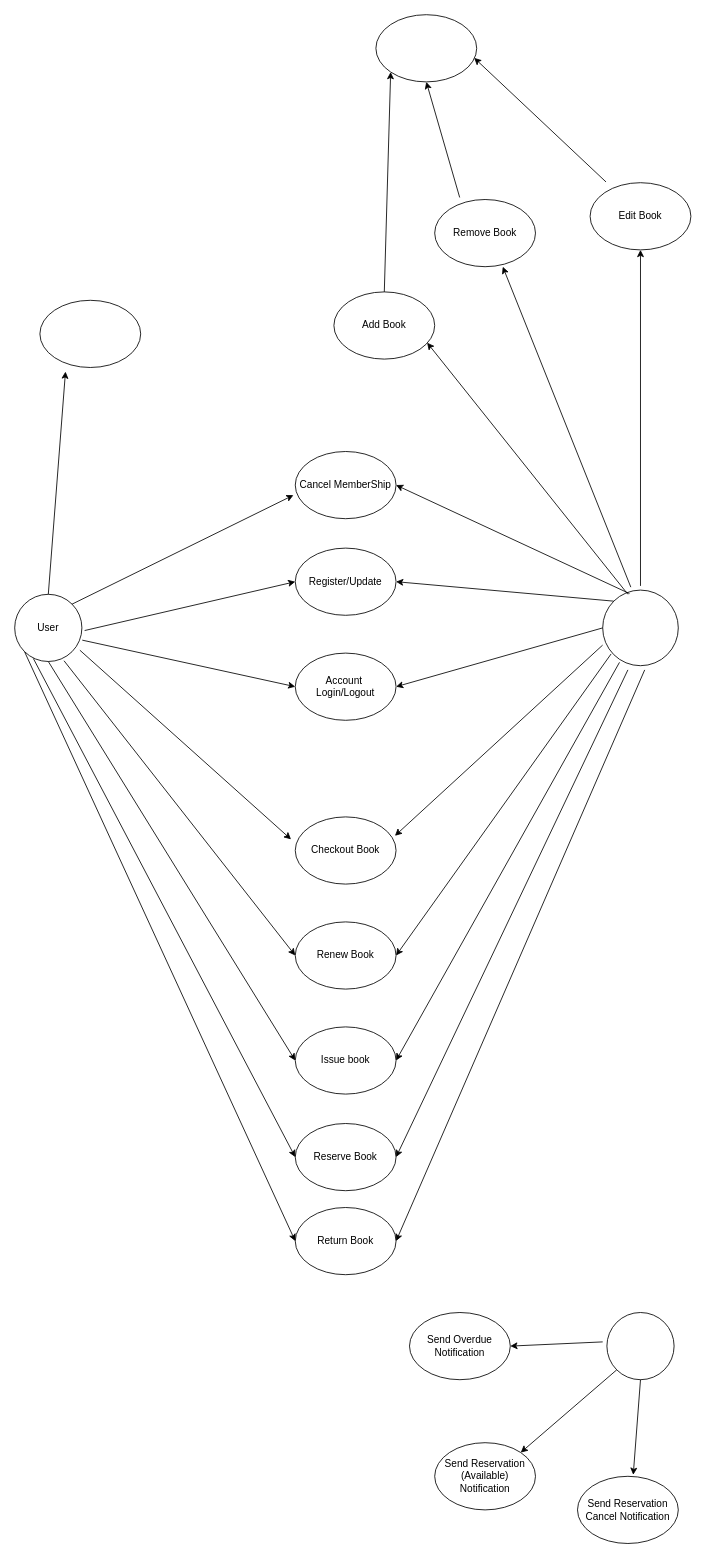
The diagram is 706 pixels wide and 1558 high, and some of its shapes have lost their labels. The shapes that lost their labels are listed below. From the top down, each one's centre as x and y in pixels, then its label:
point 426,48: Update Catalogue
point 90,333: Search Catalogue
point 640,627: Librarian
point 640,1346: System
